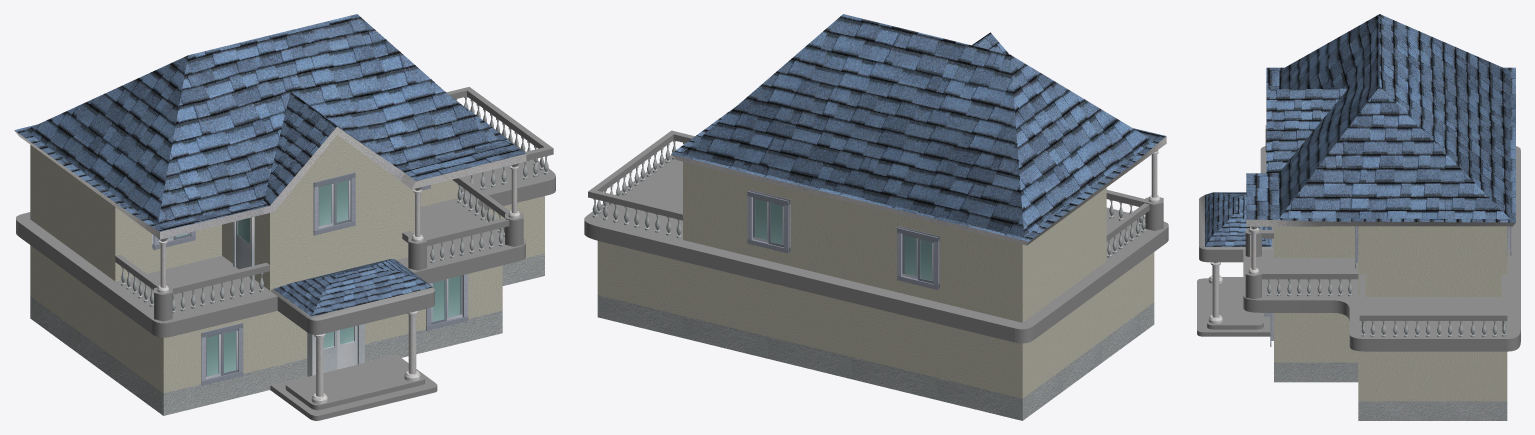
3 renders of one model, left to right at view 1: azimuth 30°, elevation 25°; view 2: azimuth 150°, elevation 25°; view 3: azimuth 270°, elevation 25°, orthographic. The views are drawn at different scales.
Parts seen in each view (by area): view 1: 对象006, 对象003, 对象001, 对象002, 对象007, Box010, 对象004, Box003, Pivot001, SlidingWindow003, SlidingWindow001, Box009 (+13 smaller); view 2: 对象003, 对象006, 对象001, 对象002, 对象007, Box003, Box009, SlidingWindow006, SlidingWindow007, 对象016, 对象015, Cylinder001; view 3: 对象006, 对象003, 对象001, 对象007, 对象002, Box010, 对象004, Box009, Box003, Box008, Cylinder008, Cylinder005 (+1 smaller).
Boxes of the visible parts, <box> form: 对象006: <box>25,14,501,225</box>; 对象003: <box>30,135,544,393</box>; 对象001: <box>16,128,555,337</box>; 对象002: <box>30,253,544,415</box>; 对象007: <box>14,92,525,231</box>; Box010: <box>270,354,437,420</box>; 对象004: <box>274,259,432,316</box>; Box003: <box>15,127,526,239</box>; Pivot001: <box>307,324,364,376</box>; SlidingWindow003: <box>313,172,355,235</box>; SlidingWindow001: <box>201,323,243,385</box>; Box009: <box>446,87,553,160</box>; 对象003: <box>597,161,1154,398</box>; 对象006: <box>682,14,1153,237</box>; 对象001: <box>584,155,1168,343</box>; 对象002: <box>597,295,1154,420</box>; 对象007: <box>671,32,1166,241</box>; Box003: <box>671,136,1166,245</box>; Box009: <box>588,130,694,220</box>; SlidingWindow006: <box>747,190,790,253</box>; SlidingWindow007: <box>897,226,939,289</box>; 对象016: <box>904,235,931,280</box>; 对象015: <box>755,199,782,244</box>; Cylinder001: <box>1145,197,1163,230</box>; 对象006: <box>1278,14,1510,219</box>; 对象003: <box>1274,226,1507,401</box>; 对象001: <box>1199,146,1520,351</box>; 对象007: <box>1246,67,1515,222</box>; 对象002: <box>1274,362,1507,420</box>; Box010: <box>1197,277,1270,336</box>; 对象004: <box>1205,192,1271,246</box>; Box009: <box>1359,274,1507,320</box>; Box003: <box>1246,90,1515,226</box>; Box008: <box>1262,272,1358,279</box>; Cylinder008: <box>1208,262,1222,323</box>; Cylinder005: <box>1245,269,1261,299</box>.
Size of the model in its own units: 149 by 92.98 by 105.
10 materials, 8 textured.
